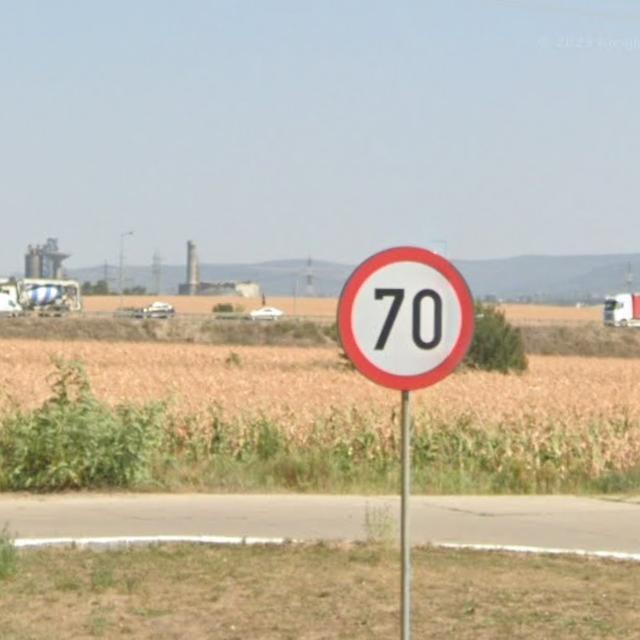forb_speed_over_70: (336, 243, 475, 391)
